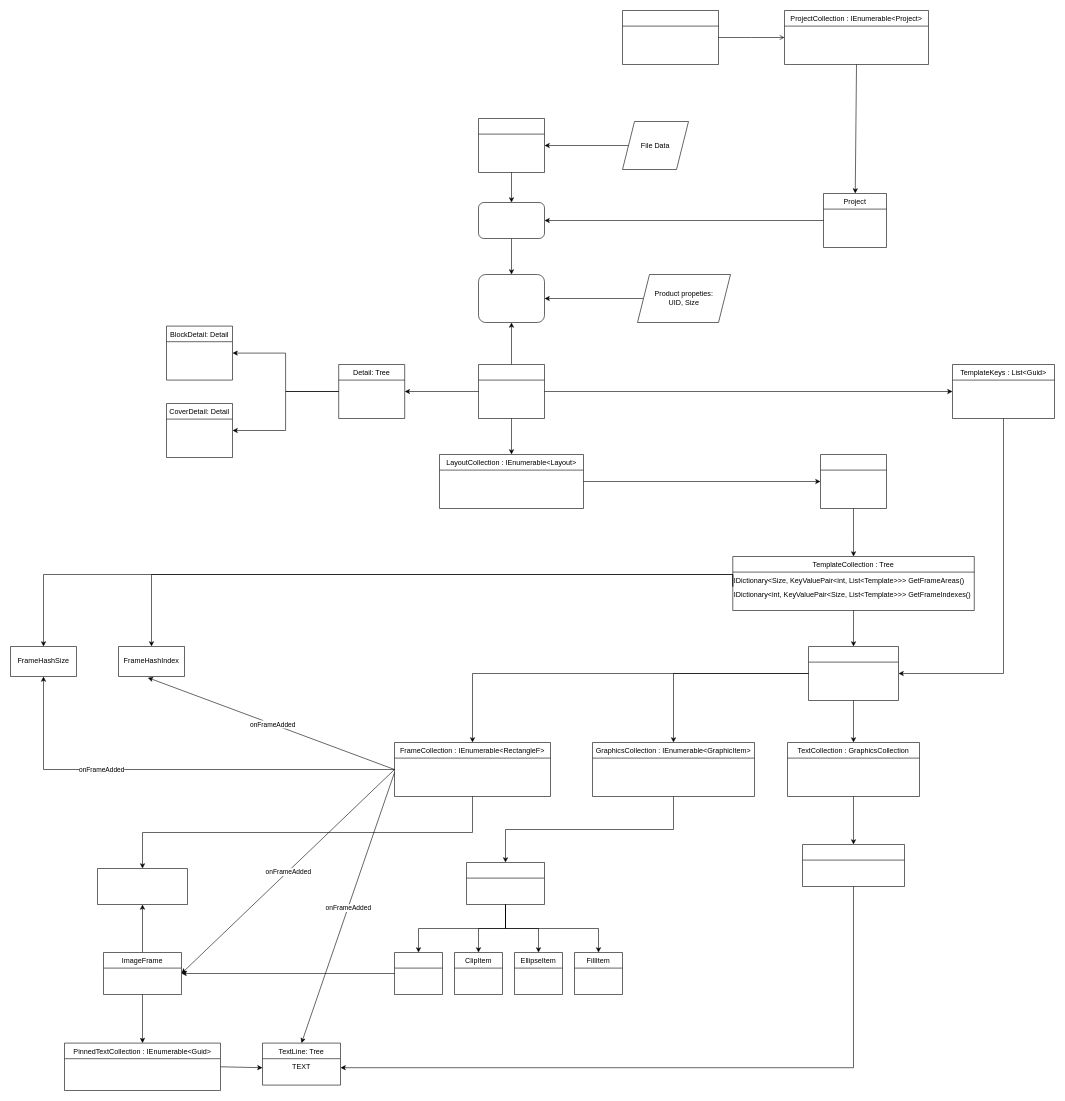
Some shapes in this 1065 by 1101 pixel diagram are drawn without their labels. Each missing label, with the centre of its shape:
CREATE: the point at 511,298
GraphicItem : Tree: the point at 505,883
ImageItem: the point at 418,973
INIT: the point at 511,220
Job: the point at 511,145
Layout: the point at 853,481
Product : Tree: the point at 511,391
RectangleF: the point at 142,886
Template : Tree: the point at 853,673
TextFrame : GraphicItem: the point at 853,865
Workspace: the point at 670,37
